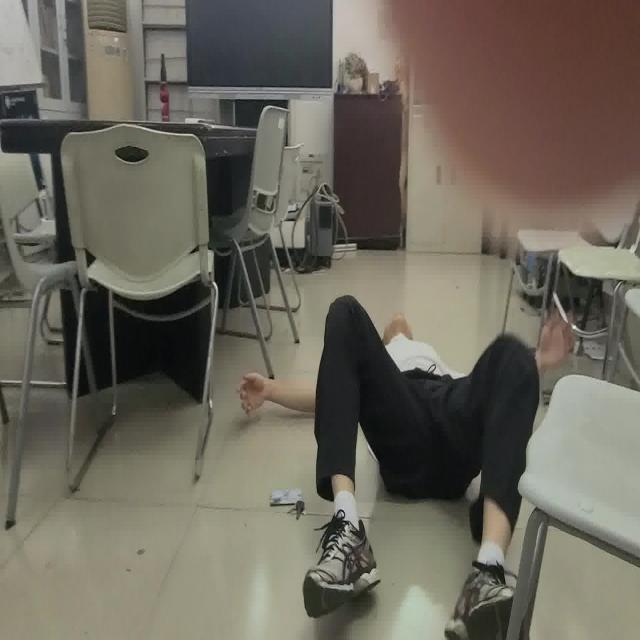Fall-Detected: (235, 294, 580, 640)
